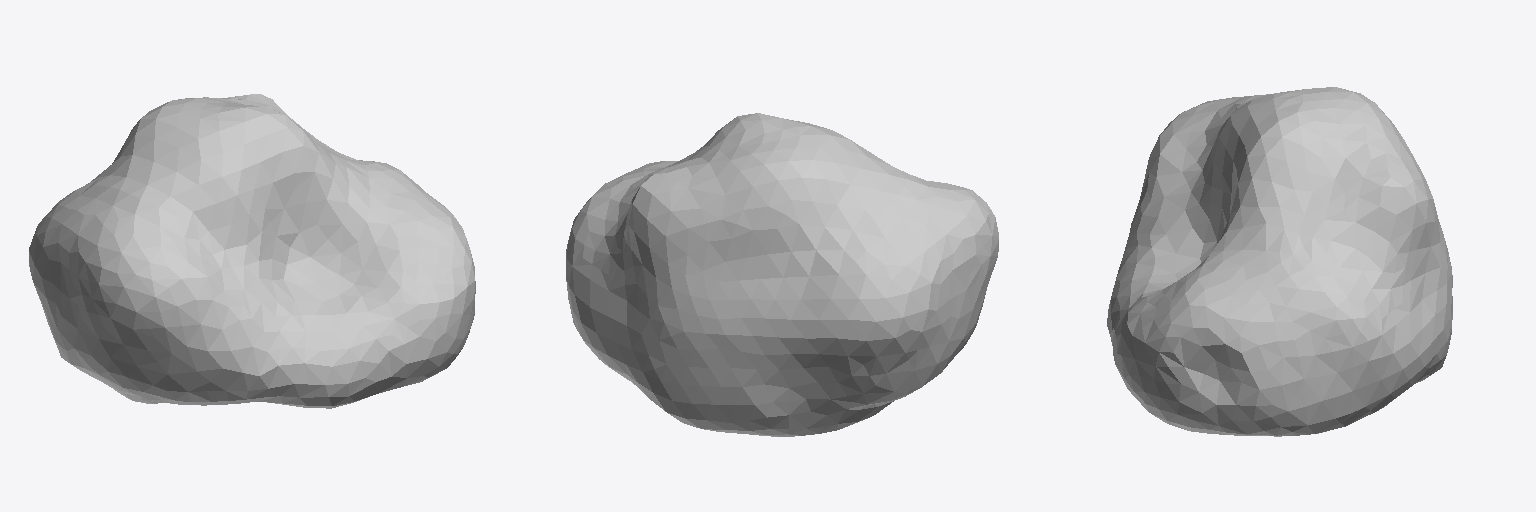
Rendered from rock_c.obj.
The picture shows the model from 3 angles: view 1: azimuth 30°, elevation 25°; view 2: azimuth 150°, elevation 25°; view 3: azimuth 270°, elevation 25°; orthographic projection.
Parts seen in each view (by area): view 1: Icosphere.012_Icosphere.017; view 2: Icosphere.012_Icosphere.017; view 3: Icosphere.012_Icosphere.017.
Part boxes in pixels (bbox=[...]): Icosphere.012_Icosphere.017: bbox=[29, 94, 475, 408]; Icosphere.012_Icosphere.017: bbox=[566, 113, 998, 436]; Icosphere.012_Icosphere.017: bbox=[1107, 87, 1452, 436].
Bounding box in the file's own units: 1.67 × 1.17 × 1.29.